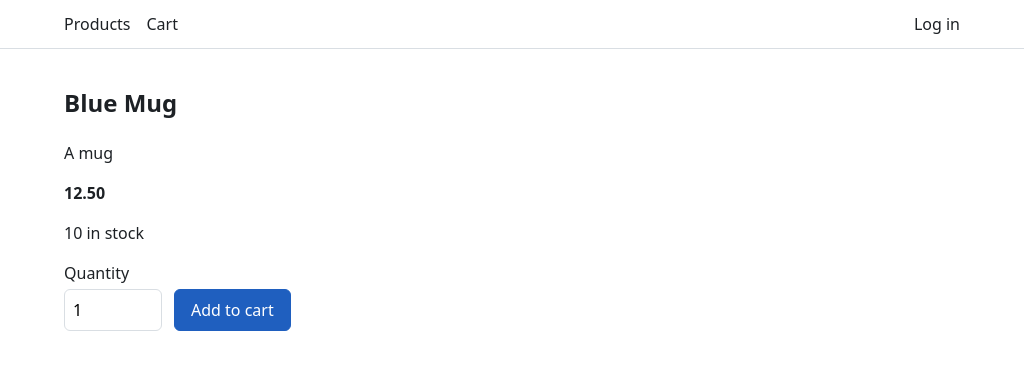
Scenario: the product page › lets you clear the quantity and type a new one
Step 1. Replace the text in the number field labelled "Quantity" with "3" → (113,310), box [64,289,162,331]
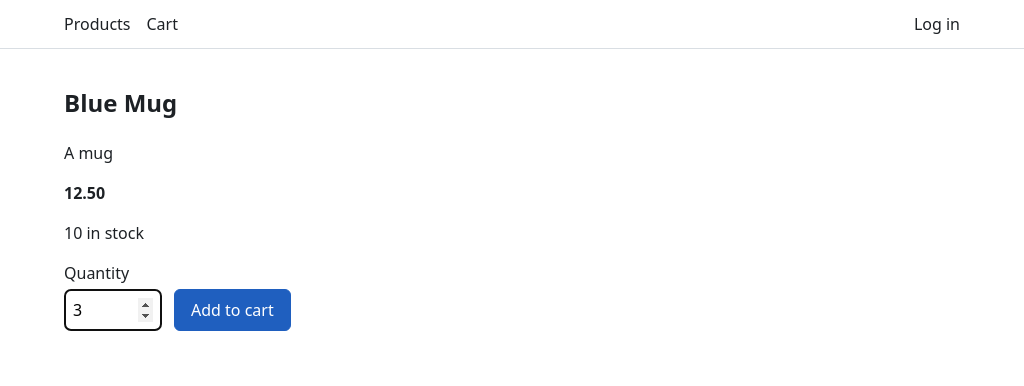
Step 2. Click the button "Add to cart" → (232,310), box [174,289,291,331]
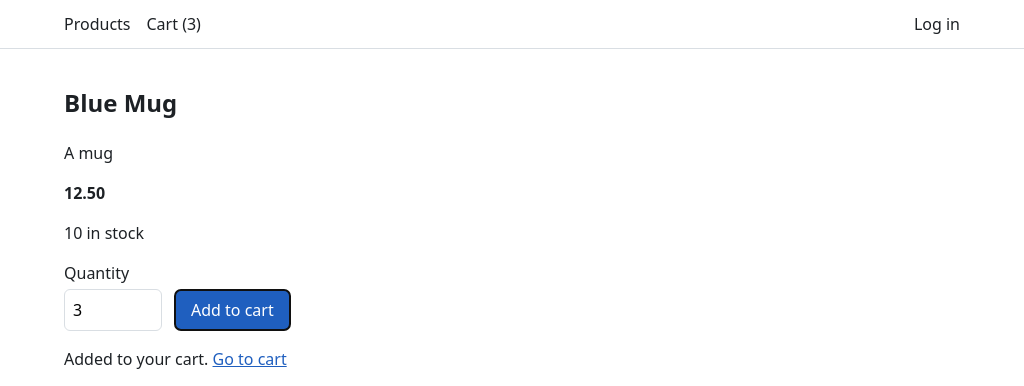
Check: the message shows "Added to your cart", box [64,348,212,370]
Check: the link "Cart (3)" is shown, box [146,12,201,36]
